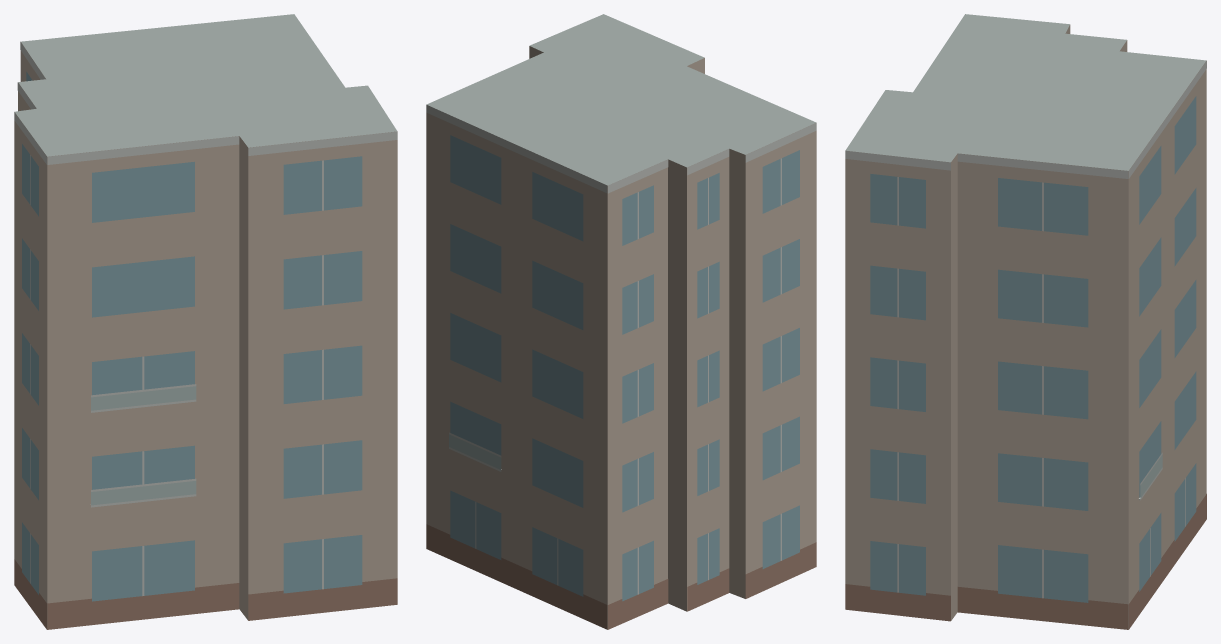
File: survey-upis-32472714.glb
3 views of the same model, side by side, from view 1: azimuth 30°, elevation 25°; view 2: azimuth 150°, elevation 25°; view 3: azimuth 270°, elevation 25° (orthographic). The views are drawn at different scales.
Parts seen in each view (by area): view 1: survey-upis-32472714.tmp; view 2: survey-upis-32472714.tmp; view 3: survey-upis-32472714.tmp.
Part boxes in pixels (x1,y1,x2,y2): survey-upis-32472714.tmp: [14, 14, 397, 629]; survey-upis-32472714.tmp: [426, 14, 816, 629]; survey-upis-32472714.tmp: [845, 14, 1206, 629].
Size of the model in its own units: 9.98 by 13.6 by 9.71.
